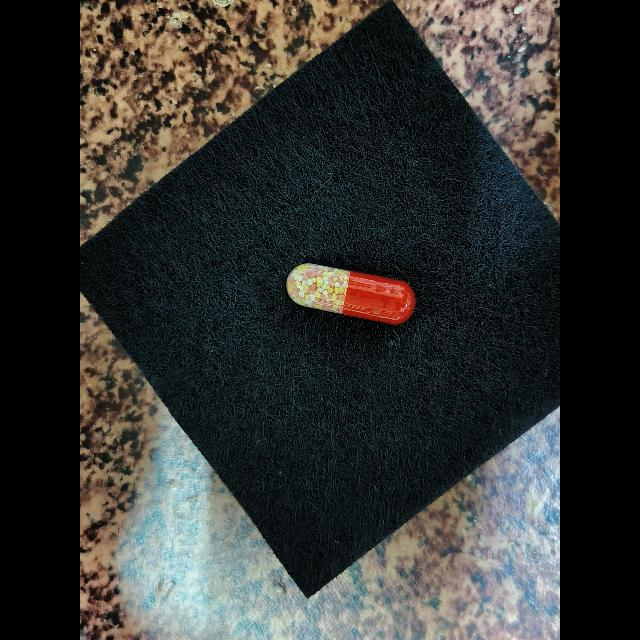Intact Capsule: (286, 263, 416, 324)
